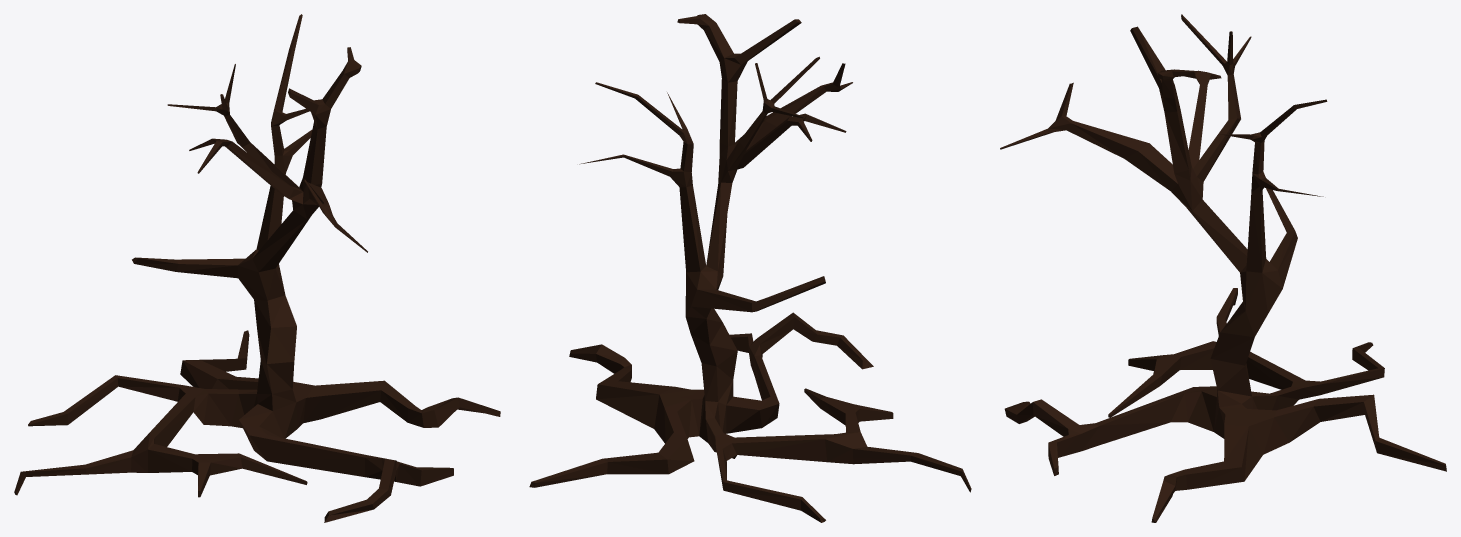
The model's file is Tree Witchered_5.fbx.
The picture shows the model from 3 angles, left to right: view 1: azimuth 30°, elevation 25°; view 2: azimuth 150°, elevation 25°; view 3: azimuth 270°, elevation 25°; orthographic projection.
Parts seen in each view (by area): view 1: Tree Witchered_5; view 2: Tree Witchered_5; view 3: Tree Witchered_5.
Part boxes in pixels (x1=…): Tree Witchered_5: x1=14, y1=14, x2=500, y2=522; Tree Witchered_5: x1=529, y1=14, x2=971, y2=522; Tree Witchered_5: x1=1000, y1=14, x2=1446, y2=522.
Bounding box in the file's own units: 7.07 × 5.87 × 6.11.
